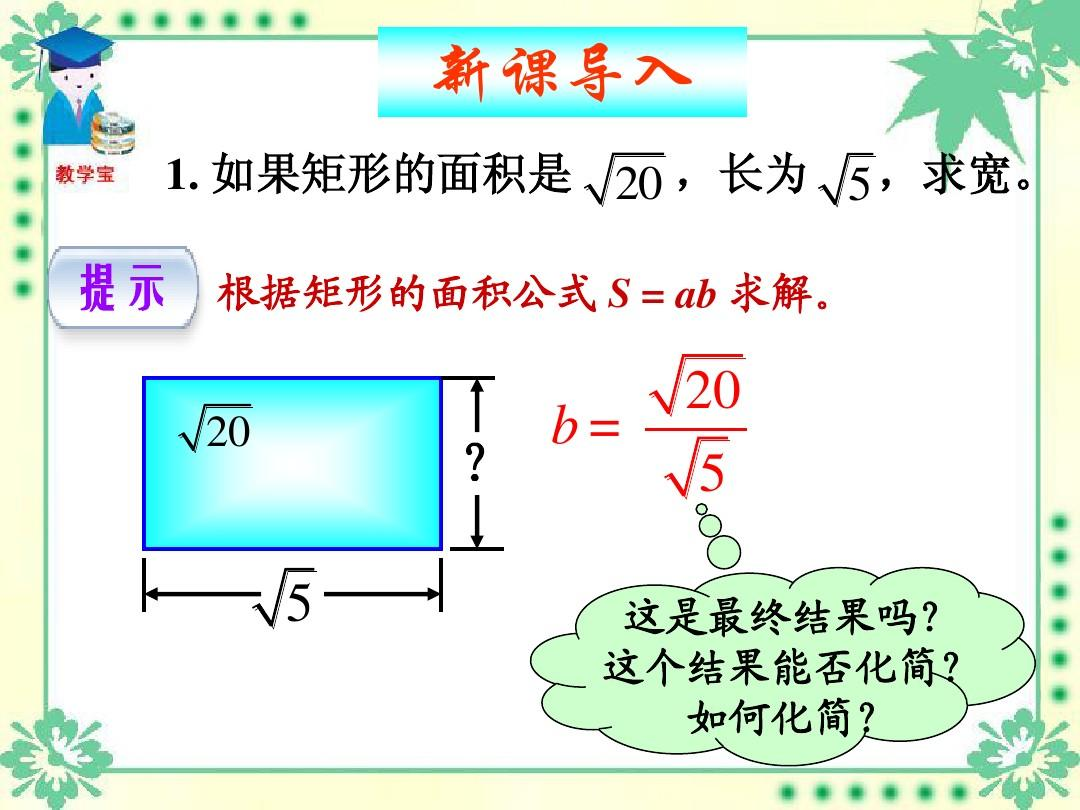division: (641, 421, 747, 436)
sqrt: (652, 350, 746, 421), (664, 434, 740, 497), (583, 145, 655, 210), (177, 402, 254, 455), (256, 567, 319, 630), (812, 152, 873, 207)
